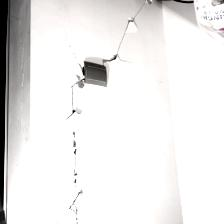Medium: (56, 82, 97, 218)
